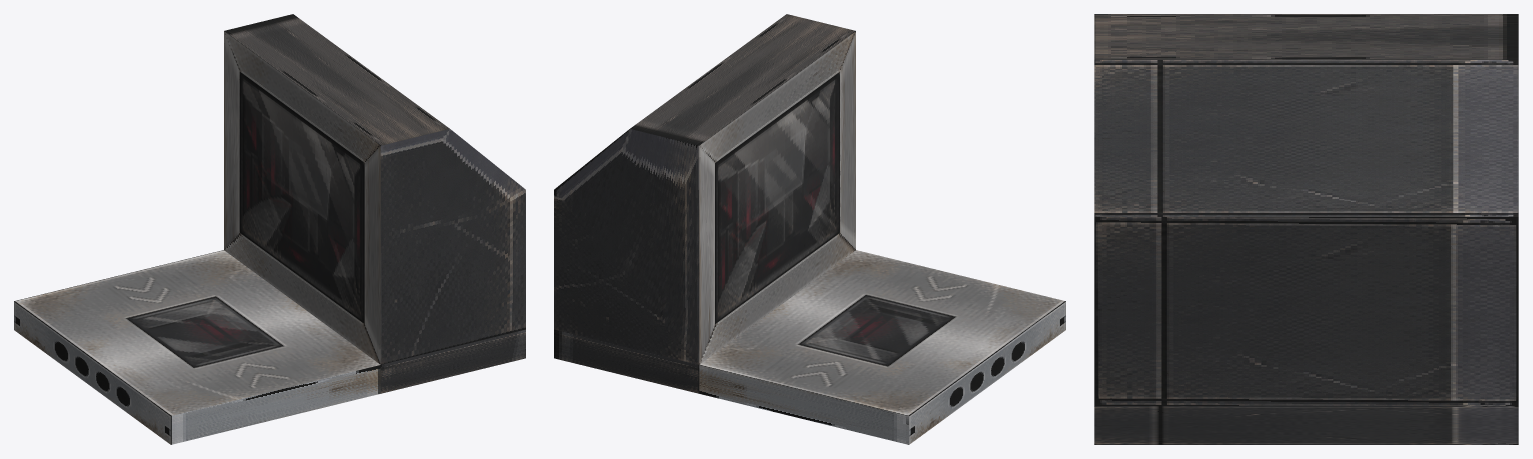
The model's file is lector_de_productos.glb.
3 renders of one model, left to right at view 1: azimuth 30°, elevation 25°; view 2: azimuth 150°, elevation 25°; view 3: azimuth 270°, elevation 25°, orthographic. The views are drawn at different scales.
Parts seen in each view (by area): view 1: lector_de_productos; view 2: lector_de_productos; view 3: lector_de_productos.
Boxes of the visible parts, box(x1,y1,x2,y2) form: lector_de_productos: box(14, 14, 525, 444); lector_de_productos: box(554, 14, 1065, 444); lector_de_productos: box(1094, 14, 1518, 444).
Bounding box in the file's own units: 0.3536 × 0.236 × 0.2707.
Materials: 1 (1 with a texture image).
